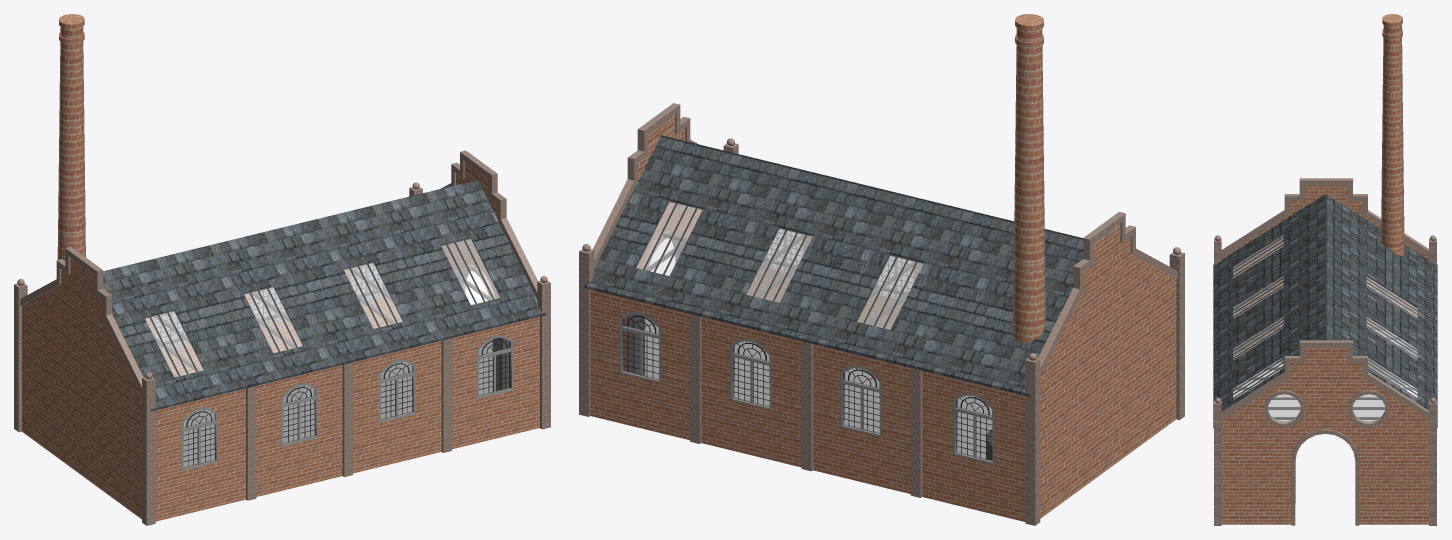
3 views of the same model, side by side, from view 1: azimuth 30°, elevation 25°; view 2: azimuth 150°, elevation 25°; view 3: azimuth 270°, elevation 25° (orthographic). The views are drawn at different scales.
Visible parts, largest first — view 1: pCube66, pCube37, pCube4, pCylinder4, pCube5, pCube41, pCube74, pCube73, pCube71, pCube72, pCube6, glass_phong3_0.001 (+15 smaller); view 2: pCube69, pCube41, pCube4, pCylinder4, pCube8, pCube76, pCube77, pCube75, pCube7, pCube101, glass_phong3_0.004, pCube27 (+14 smaller); view 3: pCube101, pCube69, pCube66, pCylinder4, pCube4, pCylinder20, pCube6, pCube7, pCylinder8, pCylinder10, pCube54, pCube111 (+14 smaller).
Boxes of the visible parts, box(x1,y1,x2,y2) form: pCube66: box(103, 180, 545, 411); pCube37: box(155, 316, 539, 521); pCube4: box(22, 258, 141, 519); pCylinder4: box(57, 14, 85, 260); pCube5: box(142, 377, 155, 525); pCube41: box(145, 269, 402, 376); pCube74: box(441, 238, 500, 304); pCube73: box(145, 311, 203, 377); pCube71: box(244, 287, 302, 352); pCube72: box(344, 262, 402, 328); pCube6: box(537, 280, 550, 429); glass_phong3_0.001: box(381, 362, 412, 419); pCube69: box(584, 135, 1083, 396); pCube41: box(590, 289, 1025, 521); pCube4: box(1040, 224, 1176, 518); pCylinder4: box(1013, 14, 1045, 342); pCube8: box(1025, 358, 1040, 525); pCube76: box(746, 228, 812, 302); pCube77: box(857, 255, 923, 329); pCube75: box(636, 201, 702, 275); pCube7: box(579, 249, 594, 416); pCube101: box(594, 115, 701, 371); glass_phong3_0.004: box(623, 314, 658, 379); pCube27: box(801, 341, 813, 471); pCube101: box(1221, 347, 1428, 524); pCube69: box(1325, 194, 1437, 427); pCube66: box(1213, 194, 1325, 427); pCylinder4: box(1380, 14, 1405, 307); pCube4: box(1221, 185, 1428, 362); pCylinder20: box(1291, 429, 1359, 525); pCube6: box(1214, 400, 1221, 525); pCube7: box(1429, 400, 1436, 525); pCylinder8: box(1352, 394, 1385, 422); pCylinder10: box(1268, 394, 1300, 422); pCube54: box(1221, 372, 1289, 419); pCube111: box(1221, 210, 1289, 257).
Size of the model in its own units: 381 by 388 by 217.
